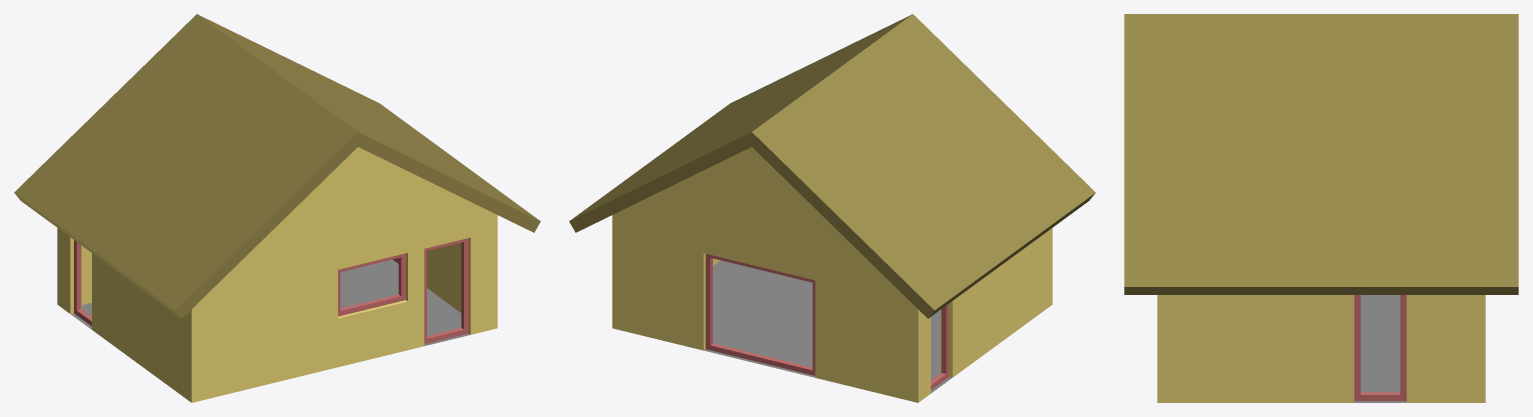
Rendered from result.glb.
3 views of the same model, side by side, from view 1: azimuth 30°, elevation 25°; view 2: azimuth 150°, elevation 25°; view 3: azimuth 270°, elevation 25° (orthographic). The views are drawn at different scales.
Parts seen in each view (by area): view 1: dd85dfb9-fef4-4f5a-9913-4cafd3211de3__undefined (×2), 82f90230-297e-4a19-8880-211b16baa60e__undefined, 99ed7c58-458d-4f37-a825-a6594b23440e__Plane_6, f40a6bef-4b8d-4628-8fd3-fa2878cb3333__Box, 0f63386c-86c6-45ca-969a-57461e464206__Box_3, b6da790c-c251-4945-baba-95f43bce02a2__Box_12; view 2: dd85dfb9-fef4-4f5a-9913-4cafd3211de3__undefined (×2), 82f90230-297e-4a19-8880-211b16baa60e__undefined, 99ed7c58-458d-4f37-a825-a6594b23440e__Plane_6, 02a102c3-0607-4066-9c18-7dd0ae37873d__Box_9, b6da790c-c251-4945-baba-95f43bce02a2__Box_12; view 3: dd85dfb9-fef4-4f5a-9913-4cafd3211de3__undefined, 82f90230-297e-4a19-8880-211b16baa60e__undefined, 99ed7c58-458d-4f37-a825-a6594b23440e__Plane_6, cdc6862e-fec5-42dc-817a-2a127ae80754__Box_15.
Part boxes in pixels (x1=…): dd85dfb9-fef4-4f5a-9913-4cafd3211de3__undefined (×2): x1=14, y1=14, x2=540, y2=318; 82f90230-297e-4a19-8880-211b16baa60e__undefined: x1=57, y1=147, x2=497, y2=402; 99ed7c58-458d-4f37-a825-a6594b23440e__Plane_6: x1=70, y1=259, x2=470, y2=345; f40a6bef-4b8d-4628-8fd3-fa2878cb3333__Box: x1=424, y1=238, x2=468, y2=344; 0f63386c-86c6-45ca-969a-57461e464206__Box_3: x1=338, y1=253, x2=405, y2=316; b6da790c-c251-4945-baba-95f43bce02a2__Box_12: x1=74, y1=240, x2=91, y2=326; dd85dfb9-fef4-4f5a-9913-4cafd3211de3__undefined (×2): x1=569, y1=14, x2=1095, y2=318; 82f90230-297e-4a19-8880-211b16baa60e__undefined: x1=612, y1=147, x2=1052, y2=402; 99ed7c58-458d-4f37-a825-a6594b23440e__Plane_6: x1=704, y1=260, x2=952, y2=393; 02a102c3-0607-4066-9c18-7dd0ae37873d__Box_9: x1=705, y1=254, x2=815, y2=375; b6da790c-c251-4945-baba-95f43bce02a2__Box_12: x1=931, y1=304, x2=948, y2=389; dd85dfb9-fef4-4f5a-9913-4cafd3211de3__undefined: x1=1124, y1=14, x2=1518, y2=294; 82f90230-297e-4a19-8880-211b16baa60e__undefined: x1=1157, y1=295, x2=1485, y2=402; 99ed7c58-458d-4f37-a825-a6594b23440e__Plane_6: x1=1354, y1=295, x2=1406, y2=402; cdc6862e-fec5-42dc-817a-2a127ae80754__Box_15: x1=1354, y1=295, x2=1406, y2=400.
Size of the model in its own units: 786 by 500 by 600.
